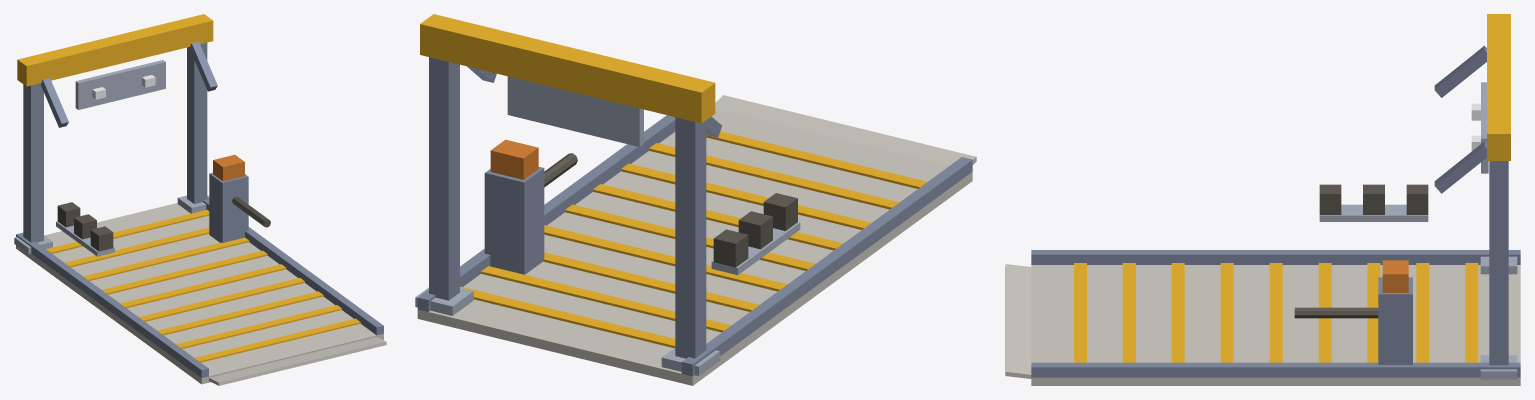
The model's file is car_spawner.glb.
3 renders of one model, left to right at view 1: azimuth 30°, elevation 25°; view 2: azimuth 150°, elevation 25°; view 3: azimuth 270°, elevation 25°, orthographic. The views are drawn at different scales.
Parts seen in each view (by area): view 1: car_spawner; view 2: car_spawner; view 3: car_spawner.
Boxes of the visible parts, left/top/right/bottom form: car_spawner: left=14, top=14, right=386, bottom=385; car_spawner: left=415, top=14, right=976, bottom=385; car_spawner: left=1005, top=14, right=1520, bottom=385.
Size of the model in its own units: 2.5 by 2.44 by 4.5.
